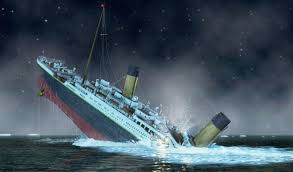tau_dansu: (37, 51, 220, 148)
